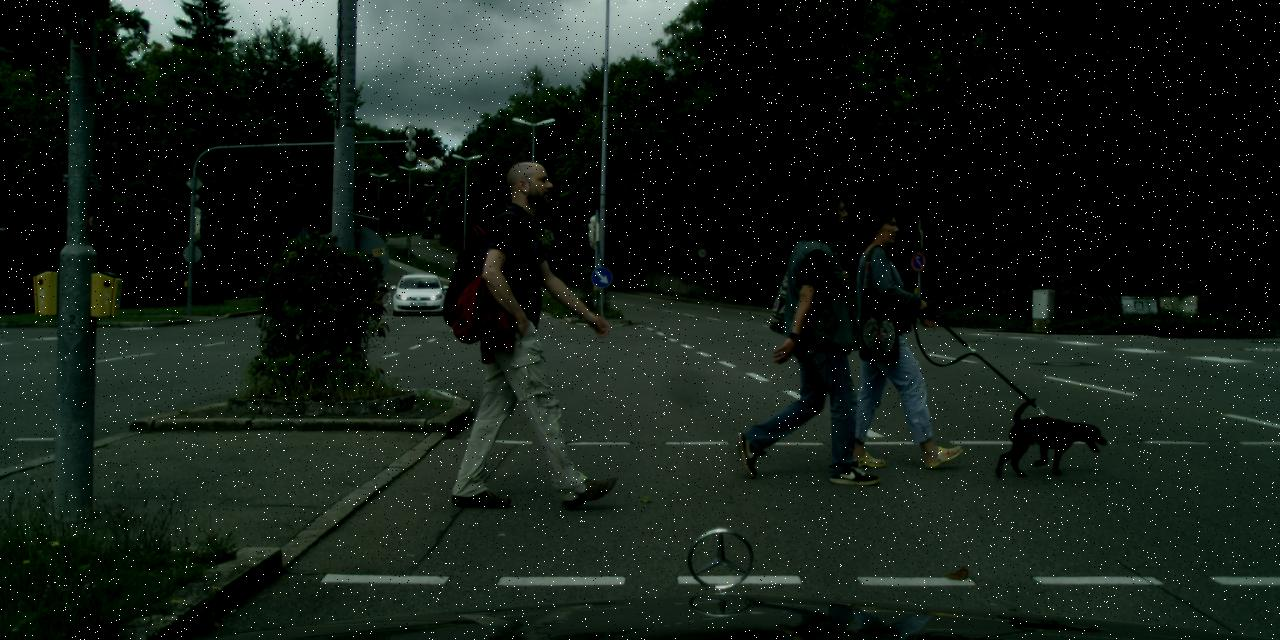ped: (464, 162, 604, 502), (753, 184, 871, 473), (839, 203, 945, 462)
